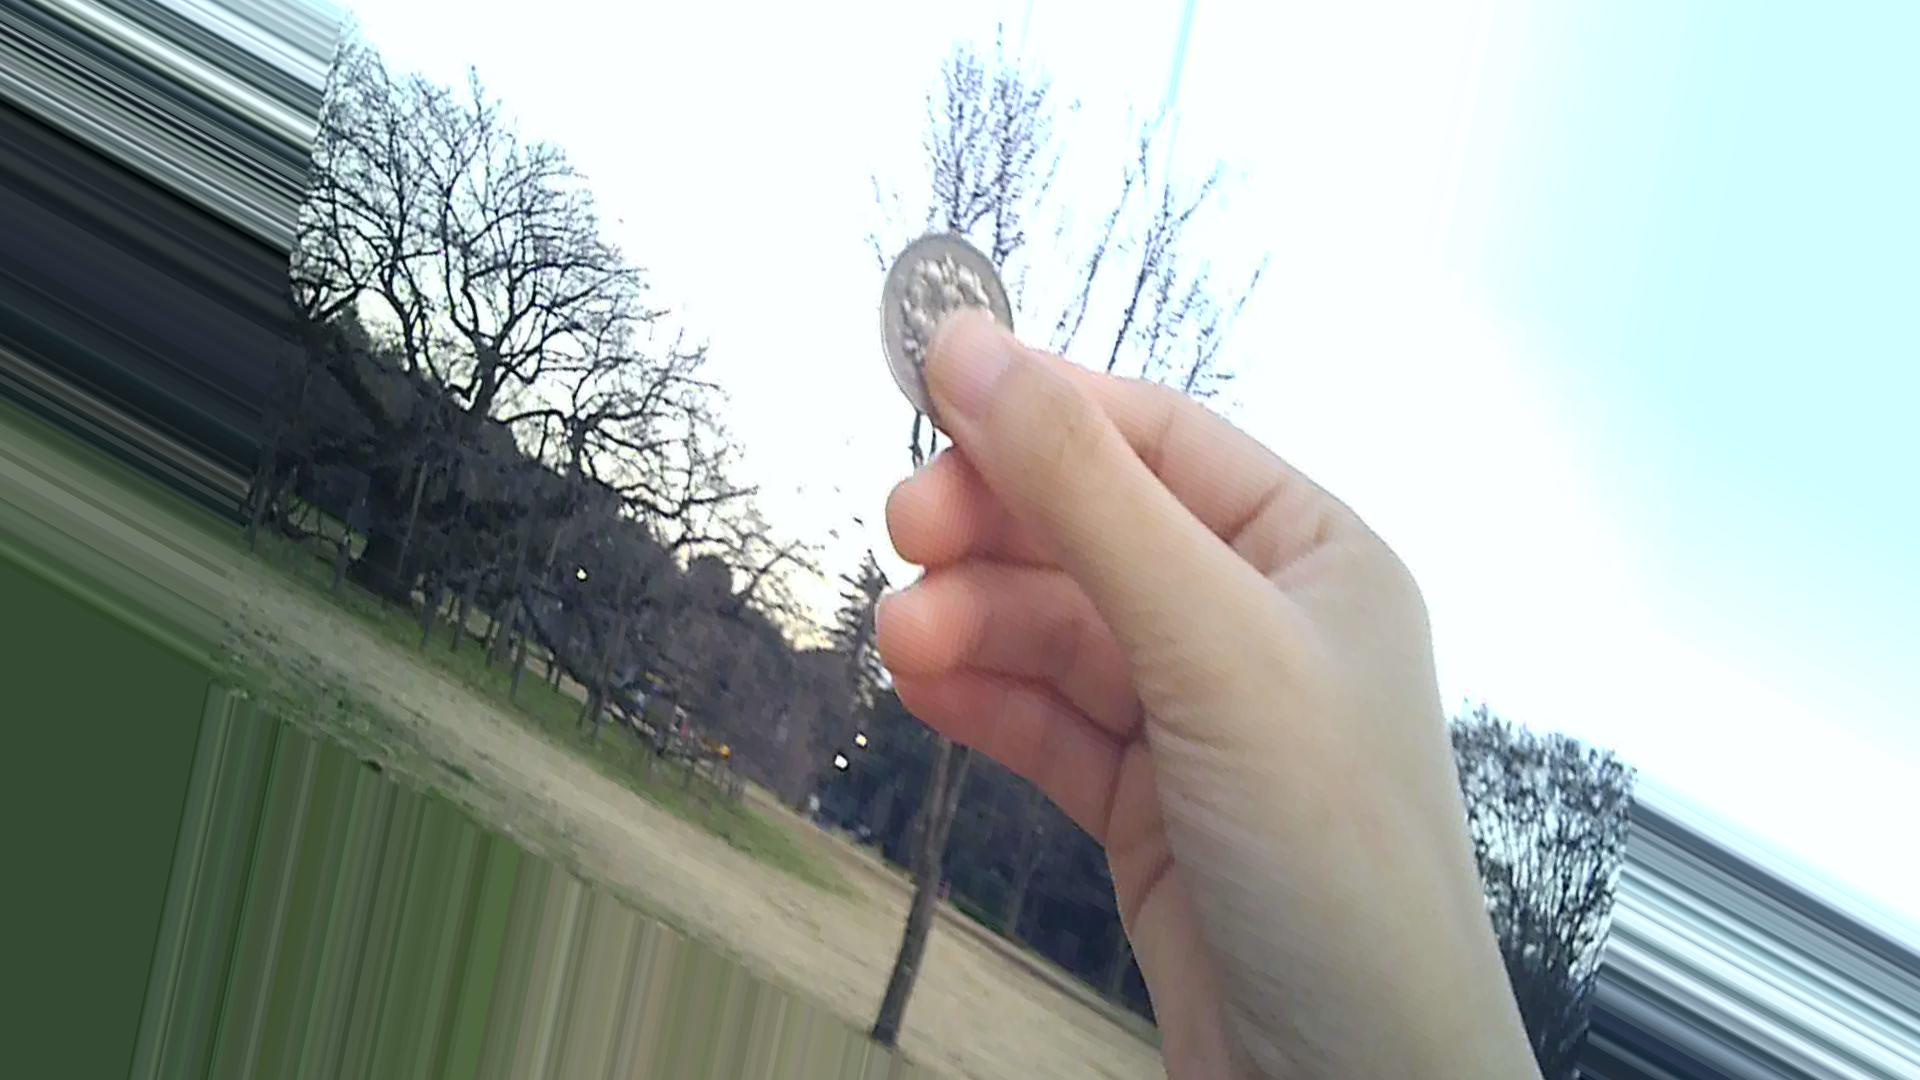100 Yen: (874, 237, 1000, 407)
